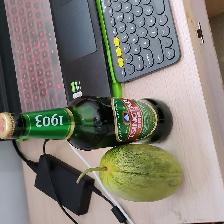gua: (99, 151, 189, 204)
